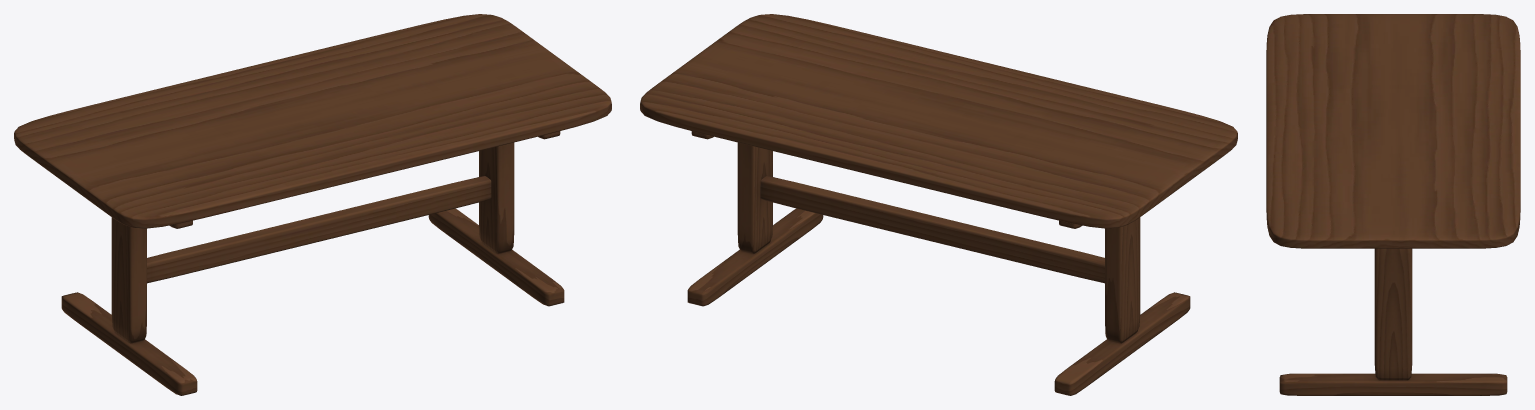
The model's file is walnut-trestle.glb.
The picture shows the model from 3 angles, left to right: view 1: azimuth 30°, elevation 25°; view 2: azimuth 150°, elevation 25°; view 3: azimuth 270°, elevation 25°; orthographic projection. The views are drawn at different scales.
Parts seen in each view (by area): view 1: wood_h, wood_hy, wood_v; view 2: wood_h, wood_hy, wood_v; view 3: wood_h, wood_v, wood_hy.
Boxes of the visible parts, x1,y1,x2,y2 form: wood_h: [14, 14, 611, 283]; wood_hy: [61, 131, 564, 395]; wood_v: [111, 142, 514, 343]; wood_h: [640, 14, 1237, 283]; wood_hy: [687, 131, 1190, 395]; wood_v: [737, 142, 1140, 343]; wood_h: [1266, 14, 1520, 248]; wood_v: [1374, 248, 1412, 380]; wood_hy: [1279, 373, 1507, 395].
Bounding box in the file's own units: 2 × 0.75 × 0.95.
3 materials, 3 textured.
